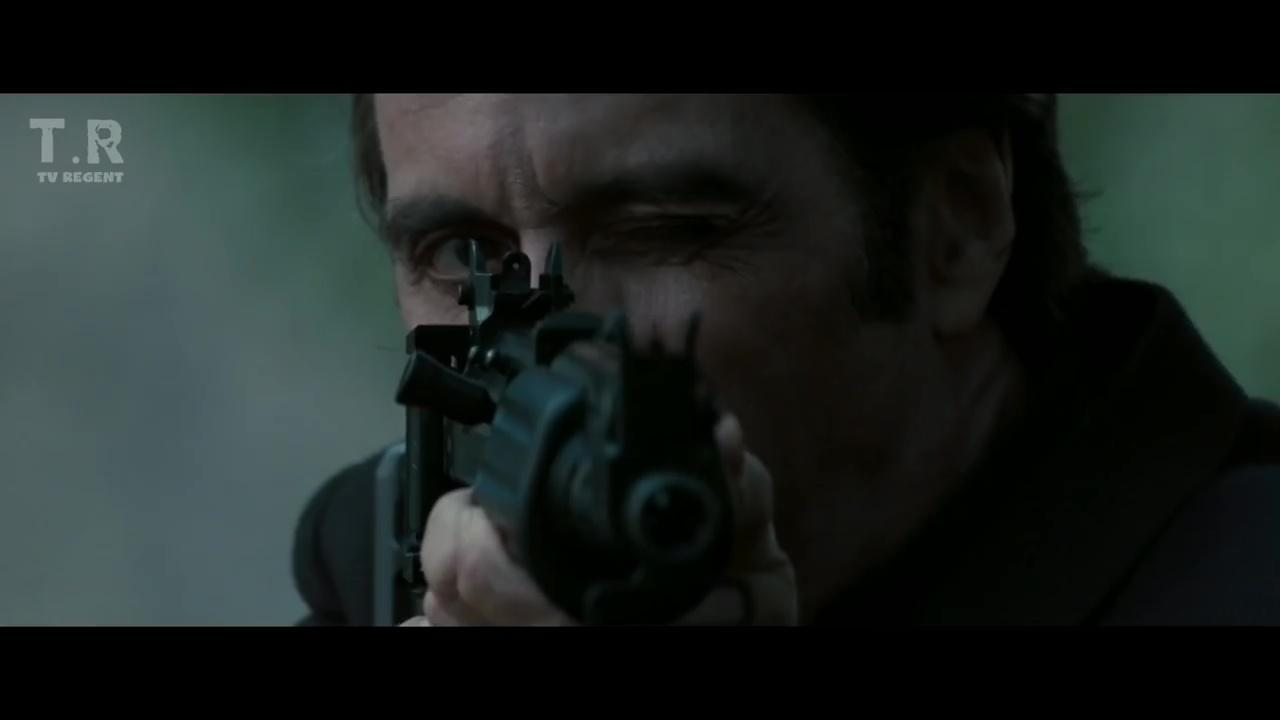Gun: (363, 238, 737, 623)
